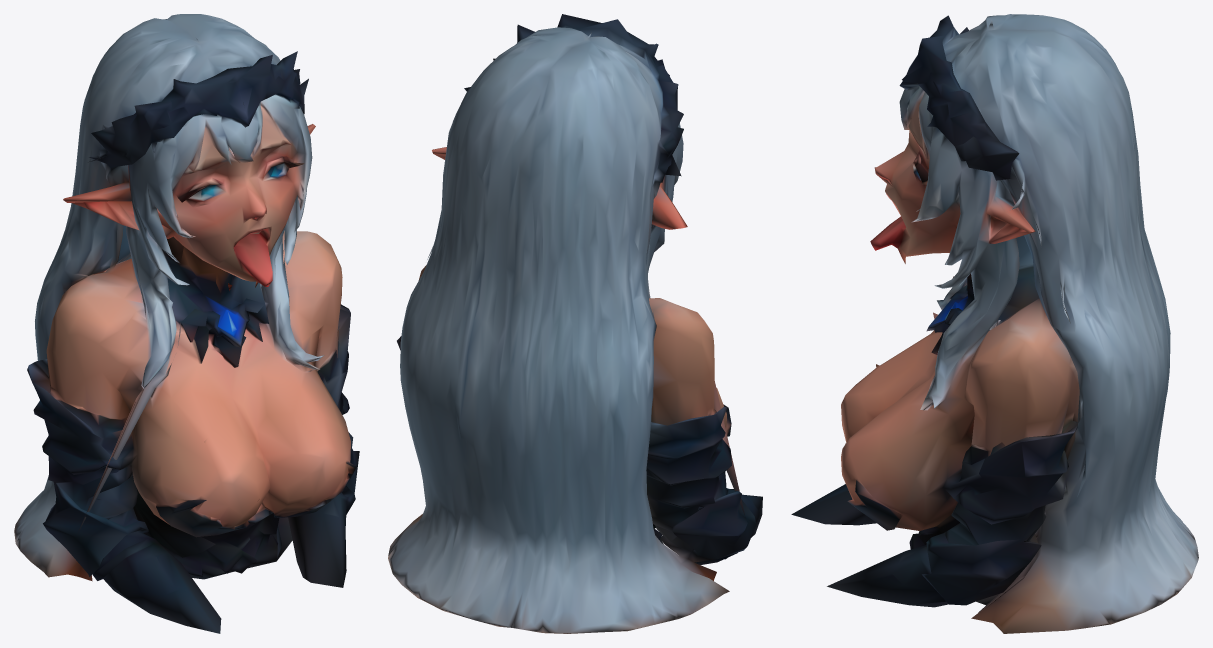
File: 01a1a2e3-c857-7fbe-8422-6df1de6ecee6.glb
3 renders of one model, left to right at view 1: azimuth 30°, elevation 25°; view 2: azimuth 150°, elevation 25°; view 3: azimuth 270°, elevation 25°, orthographic. The views are drawn at different scales.
Visible parts, largest first — view 1: model; view 2: model; view 3: model.
Part boxes in pixels (bbox=[...]): model: bbox=[14, 14, 359, 633]; model: bbox=[388, 14, 762, 633]; model: bbox=[791, 14, 1198, 633].
Size of the model in its own units: 1.23 by 1.88 by 1.31.
